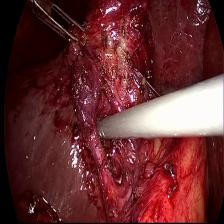Grasper: (28, 0, 89, 53)
Irrigator: (94, 111, 118, 147)
